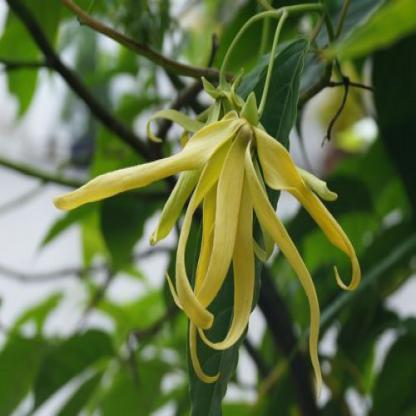Kenanga: (126, 96, 340, 345)
